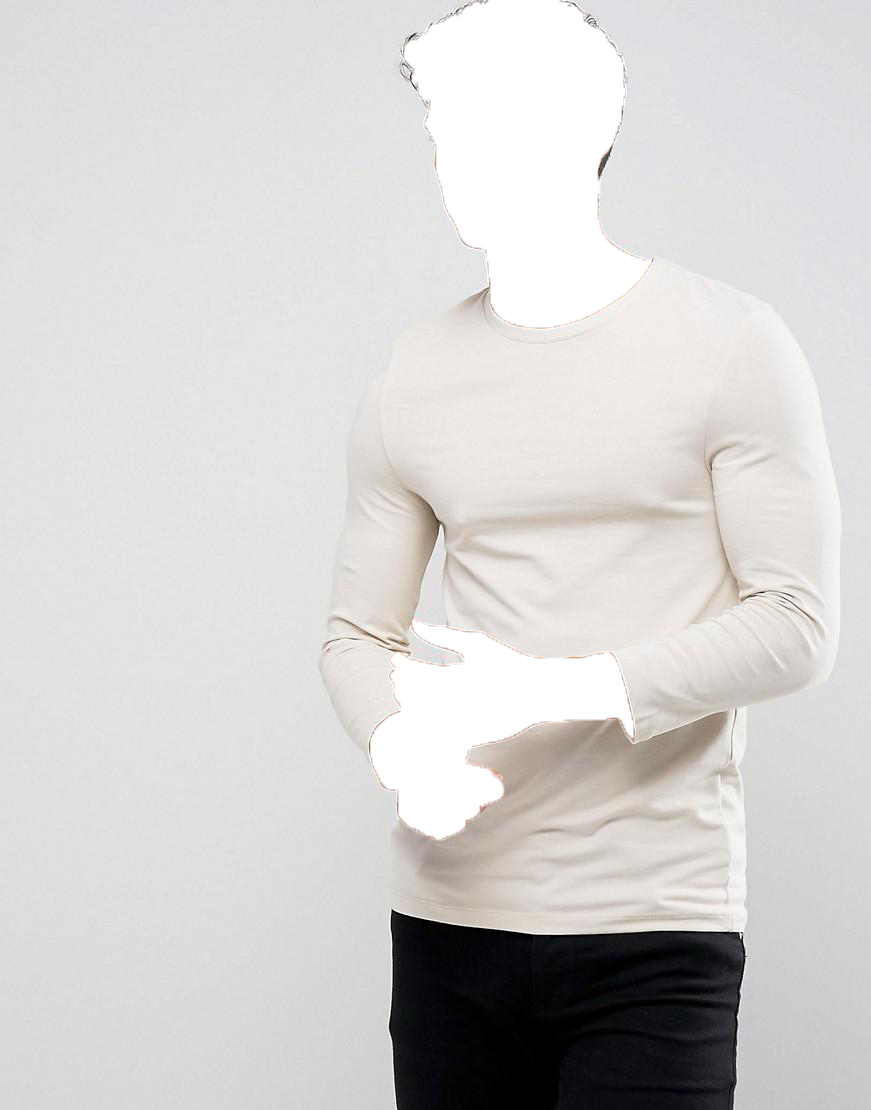teeshirt: (310, 257, 849, 942)
